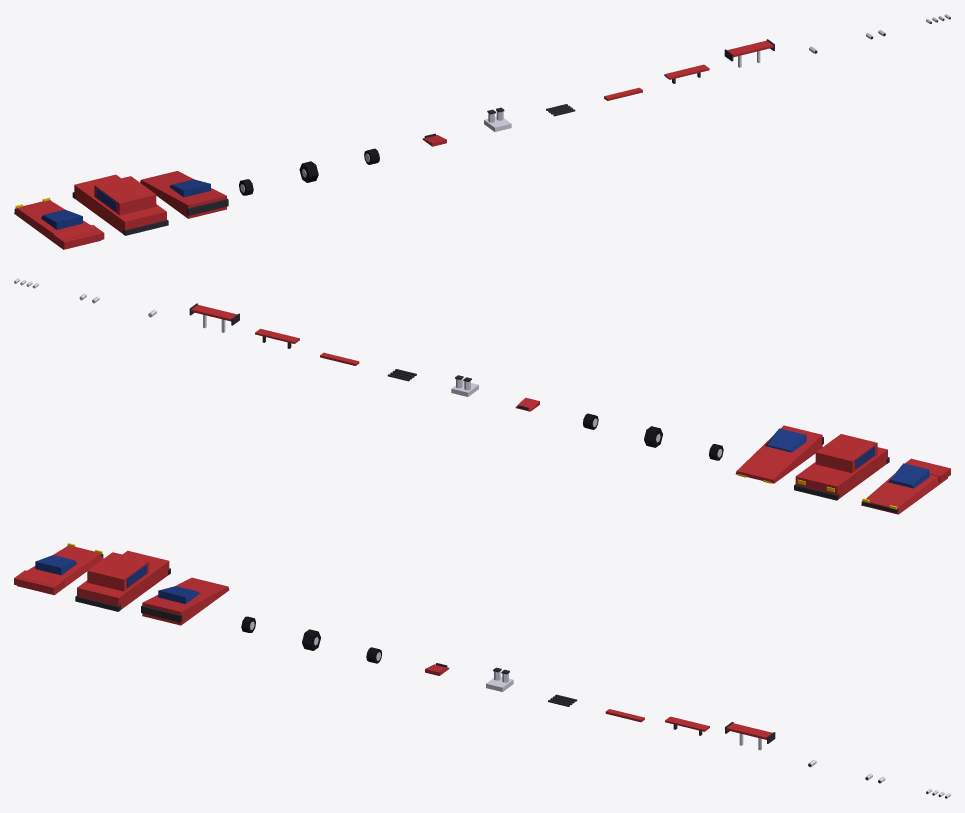
Rendered from kit.glb.
3 views of the same model, one above another, from view 1: azimuth 30°, elevation 25°; view 2: azimuth 150°, elevation 25°; view 3: azimuth 330°, elevation 25° (orthographic).
Visible parts, largest first — view 1: body_brick, body_roadster, body_wedge, spoiler_tower; view 2: body_brick, body_wedge, body_roadster, spoiler_tower; view 3: body_brick, body_roadster, body_wedge, spoiler_tower.
Boxes of the visible parts, left/top/right/bottom form: body_brick: left=72, top=174, right=168, bottom=235; body_roadster: left=14, top=197, right=104, bottom=249; body_wedge: left=140, top=171, right=228, bottom=218; spoiler_tower: left=724, top=39, right=774, bottom=67; body_brick: left=794, top=434, right=889, bottom=500; body_wedge: left=735, top=425, right=823, bottom=483; body_roadster: left=861, top=458, right=950, bottom=514; spoiler_tower: left=189, top=303, right=239, bottom=332; body_brick: left=75, top=550, right=170, bottom=611; body_roadster: left=14, top=543, right=103, bottom=595; body_wedge: left=141, top=577, right=229, bottom=625; spoiler_tower: left=725, top=722, right=775, bottom=750.
Size of the model in its own units: 43.46 by 1.82 by 4.38.
